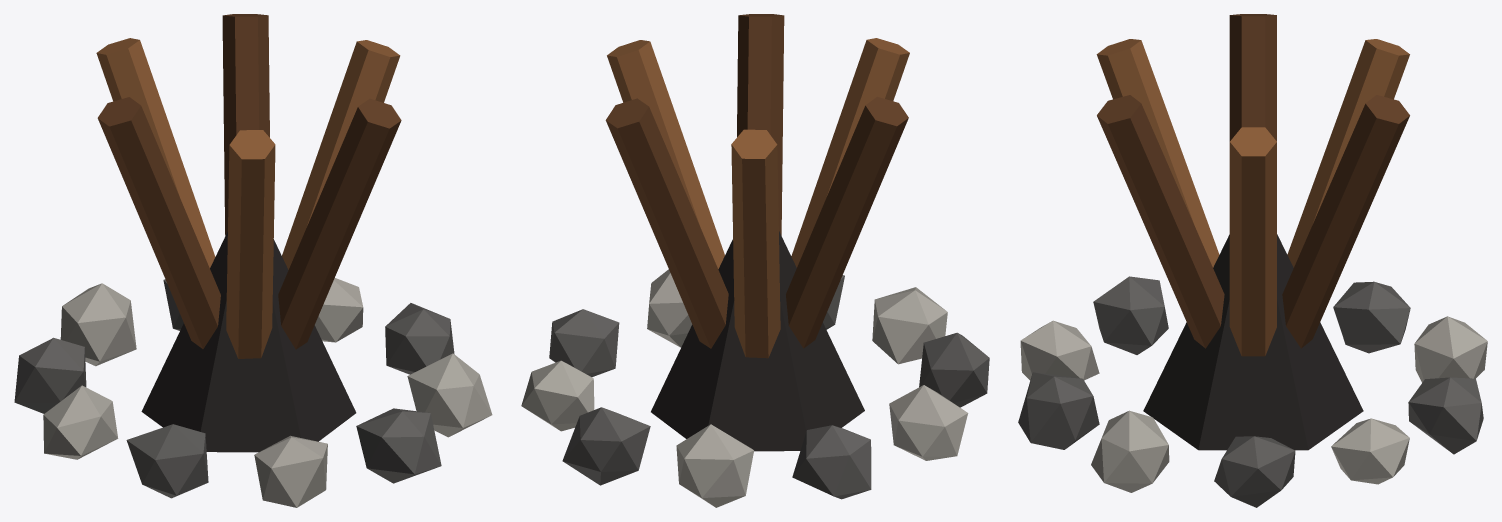
Rendered from SignalFire.fbx.
3 views of the same model, side by side, from view 1: azimuth 30°, elevation 25°; view 2: azimuth 150°, elevation 25°; view 3: azimuth 270°, elevation 25° (orthographic).
Visible parts, largest first — view 1: Logs, Stones, Kindling; view 2: Logs, Stones, Kindling; view 3: Logs, Stones, Kindling.
Part boxes in pixels (box(x1,y1,x2,y2)): Logs: box(96, 14, 401, 358); Stones: box(14, 278, 492, 507); Kindling: box(141, 231, 356, 452); Logs: box(605, 14, 909, 358); Stones: box(521, 269, 989, 507); Kindling: box(651, 231, 864, 451); Logs: box(1096, 14, 1409, 356); Stones: box(1018, 276, 1487, 507); Kindling: box(1143, 234, 1363, 450).
Size of the model in its own units: 6 by 5 by 6.
